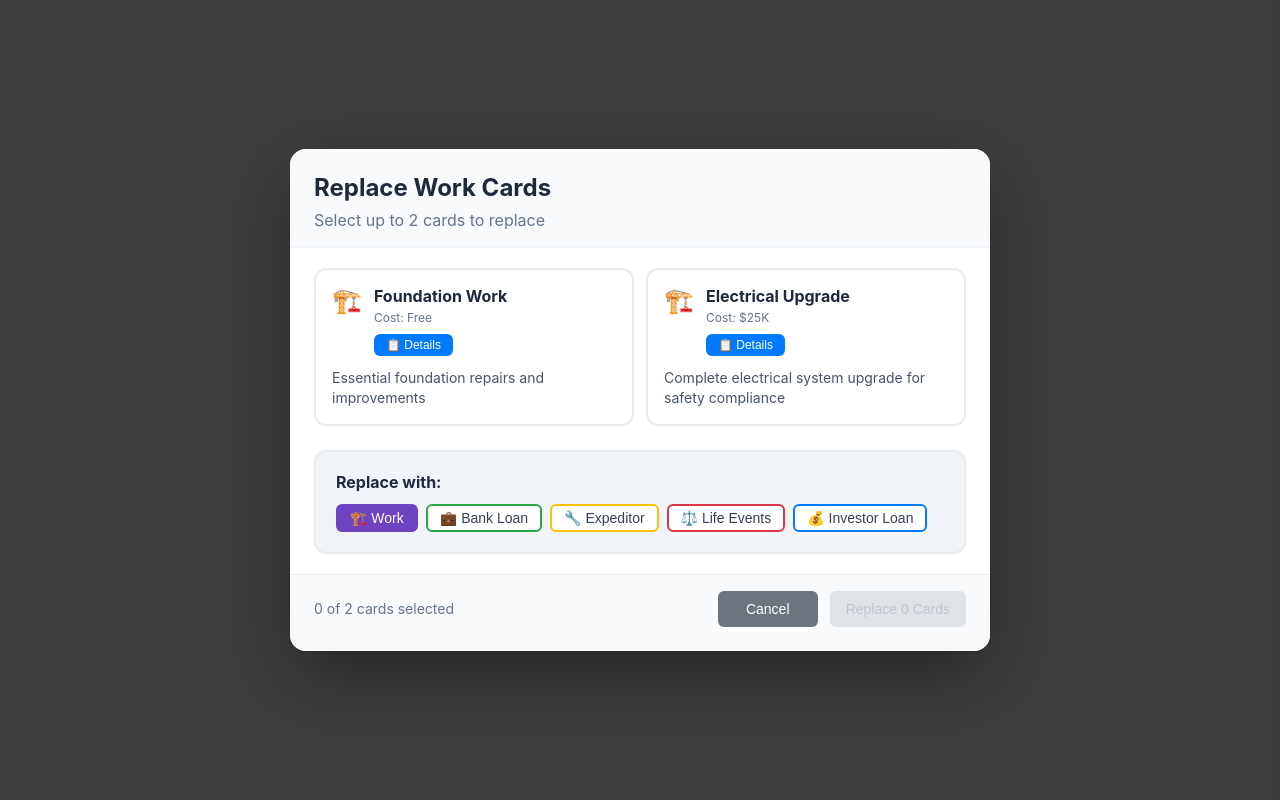
Scenario: CardReplacementModal › should enable Replace button when cards are selected
Expected: the button "Replace 0 Cards" is disabled, [830,591,966,627]
# Select a card
What coordinates should you click on to do the following:
click the text "Foundation Work"
I would click on:
 (441, 296)
Its box is [374,286,507,356].
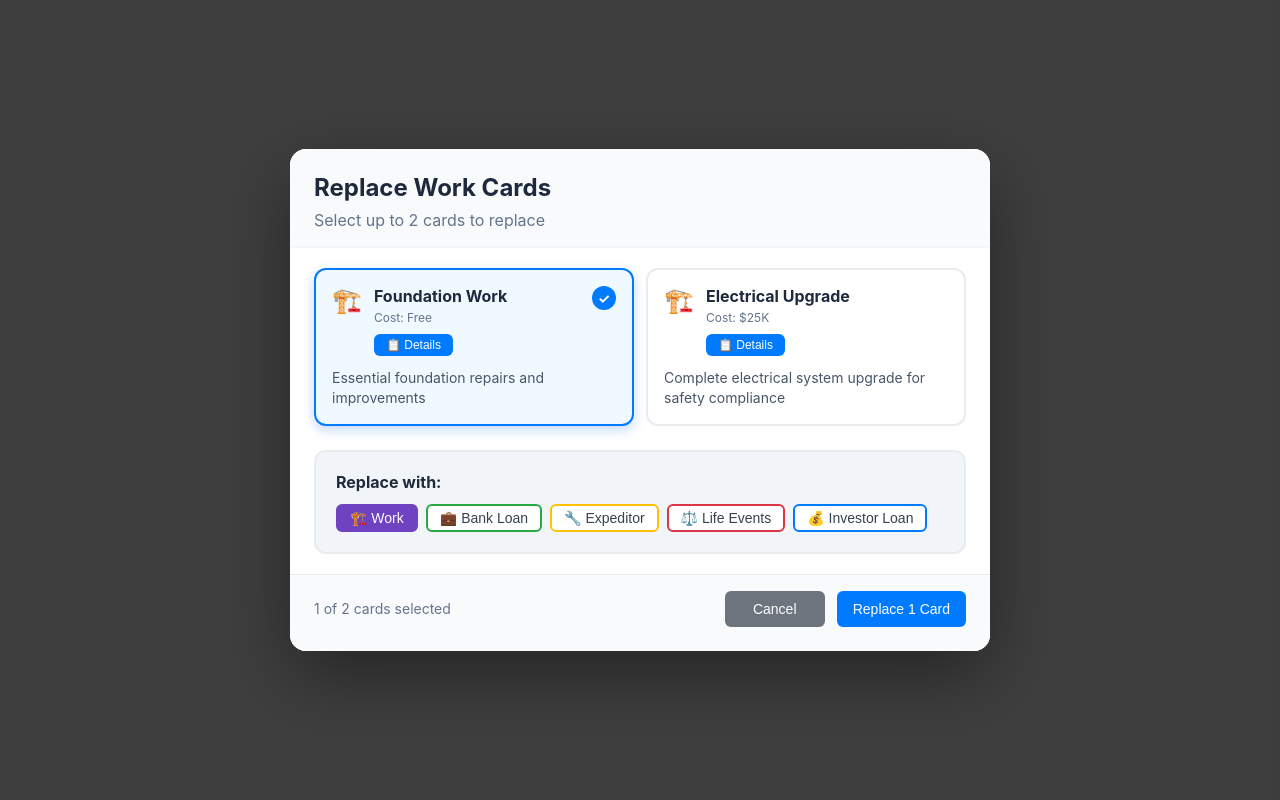
Expected: the button "Replace 1 Card" is enabled, [837,591,966,627]
